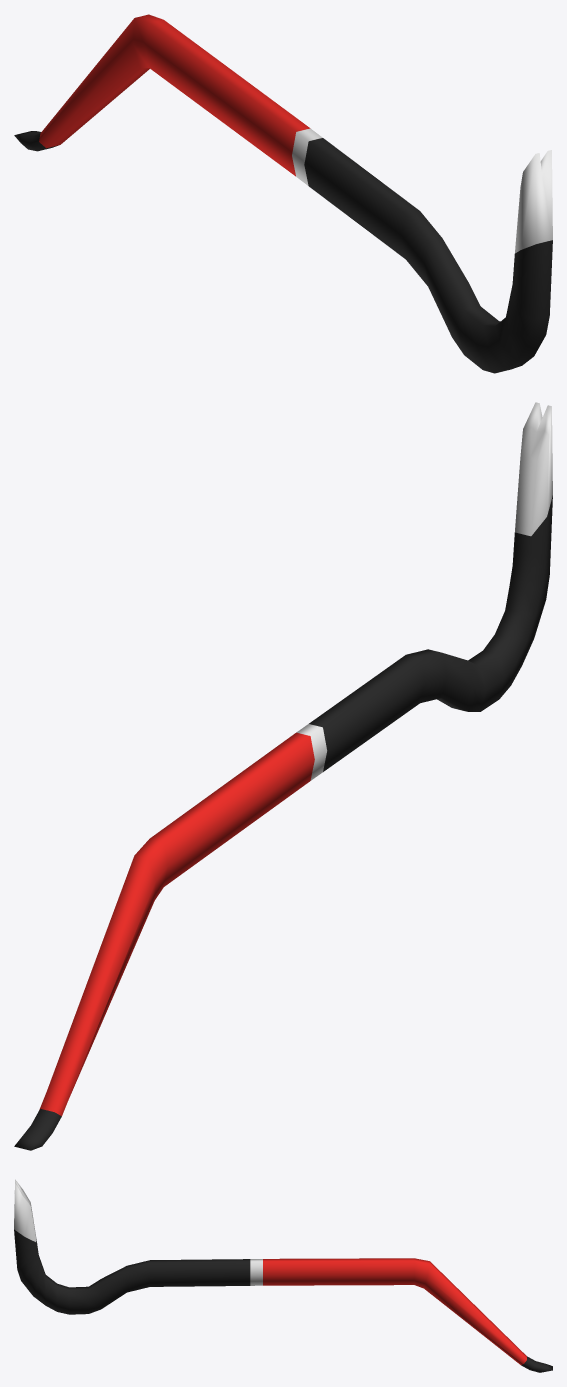
File: Scrap.glb
The picture shows the model from 3 angles, top to bottom: view 1: azimuth 30°, elevation 25°; view 2: azimuth 150°, elevation 25°; view 3: azimuth 270°, elevation 25°; orthographic projection. The views are drawn at different scales.
Visible parts, largest first — view 1: Cube; view 2: Cube; view 3: Cube.
Part boxes in pixels (bbox=[...]): Cube: bbox=[14, 14, 552, 373]; Cube: bbox=[14, 402, 552, 1150]; Cube: bbox=[14, 1179, 552, 1372].
Size of the model in its own units: 0.1304 by 1.75 by 4.5.
